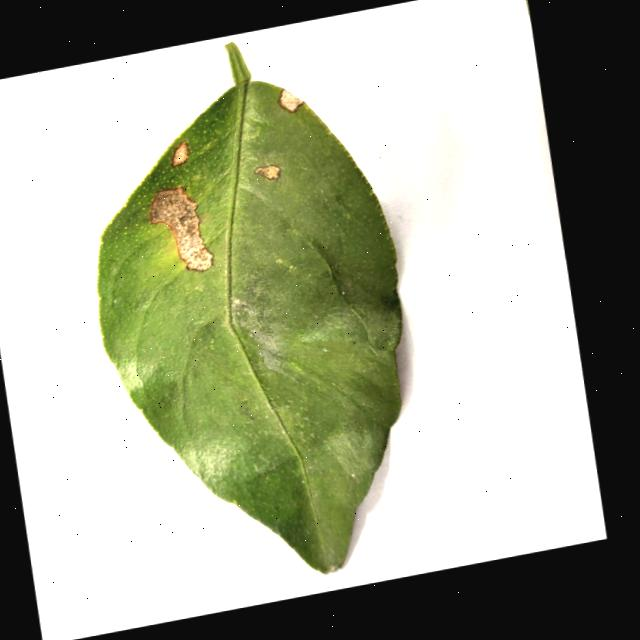antracnose: (97, 44, 400, 572), (148, 187, 212, 271), (277, 88, 302, 112), (253, 164, 279, 179), (171, 141, 187, 165)
